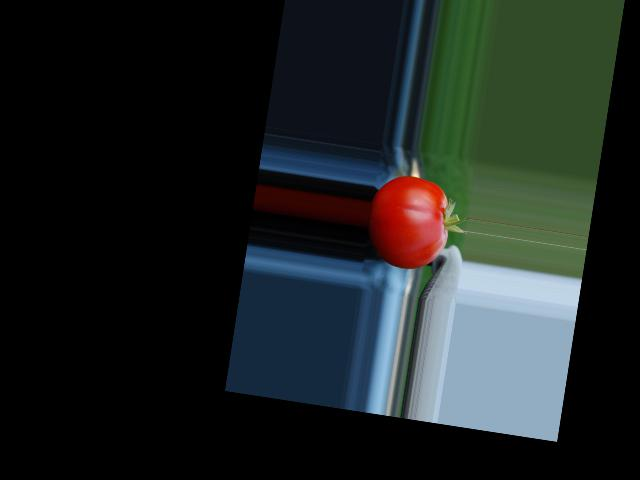tomato: (361, 170, 455, 274)
